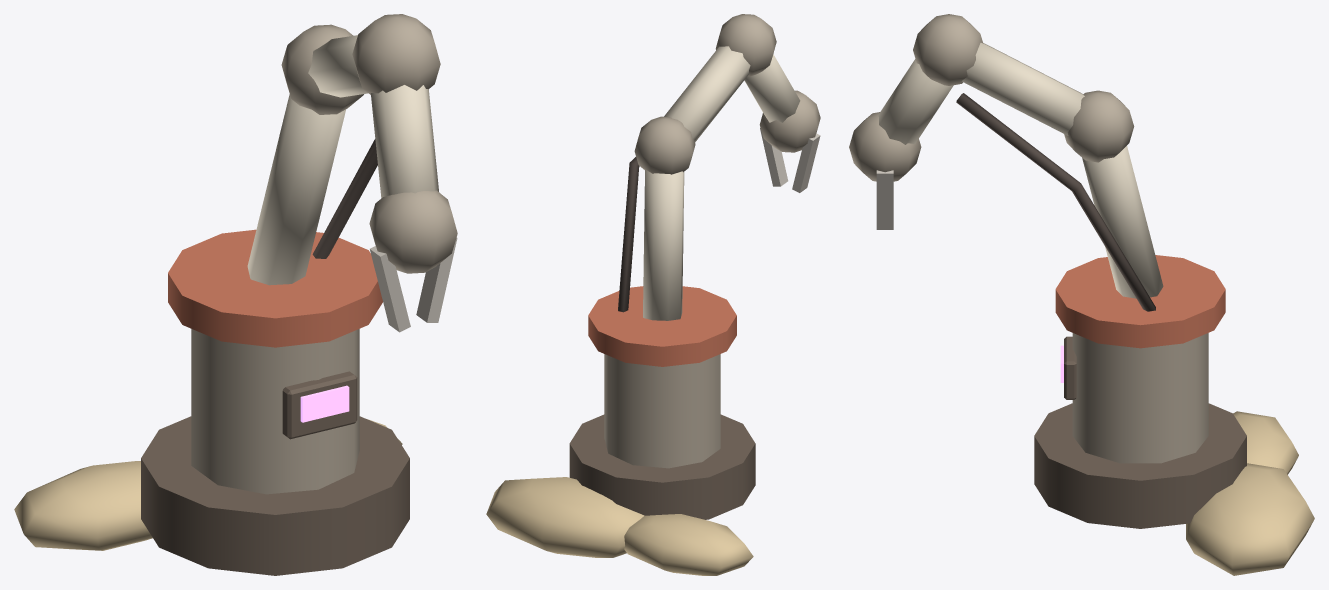
Rendered from du_arm.glb.
3 renders of one model, left to right at view 1: azimuth 30°, elevation 25°; view 2: azimuth 150°, elevation 25°; view 3: azimuth 270°, elevation 25°, orthographic. The views are drawn at different scales.
Parts seen in each view (by area): view 1: du_arm; view 2: du_arm; view 3: du_arm.
Boxes of the visible parts, x1,y1,x2,y2 form: du_arm: [14, 14, 457, 575]; du_arm: [486, 14, 820, 575]; du_arm: [849, 14, 1314, 575].
Bounding box in the file's own units: 1.62 × 2.65 × 2.19.
